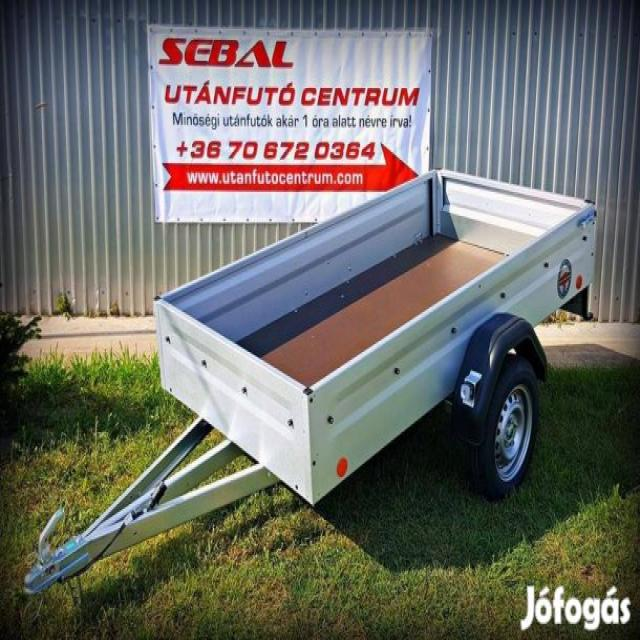trailer: (154, 168, 599, 507)
